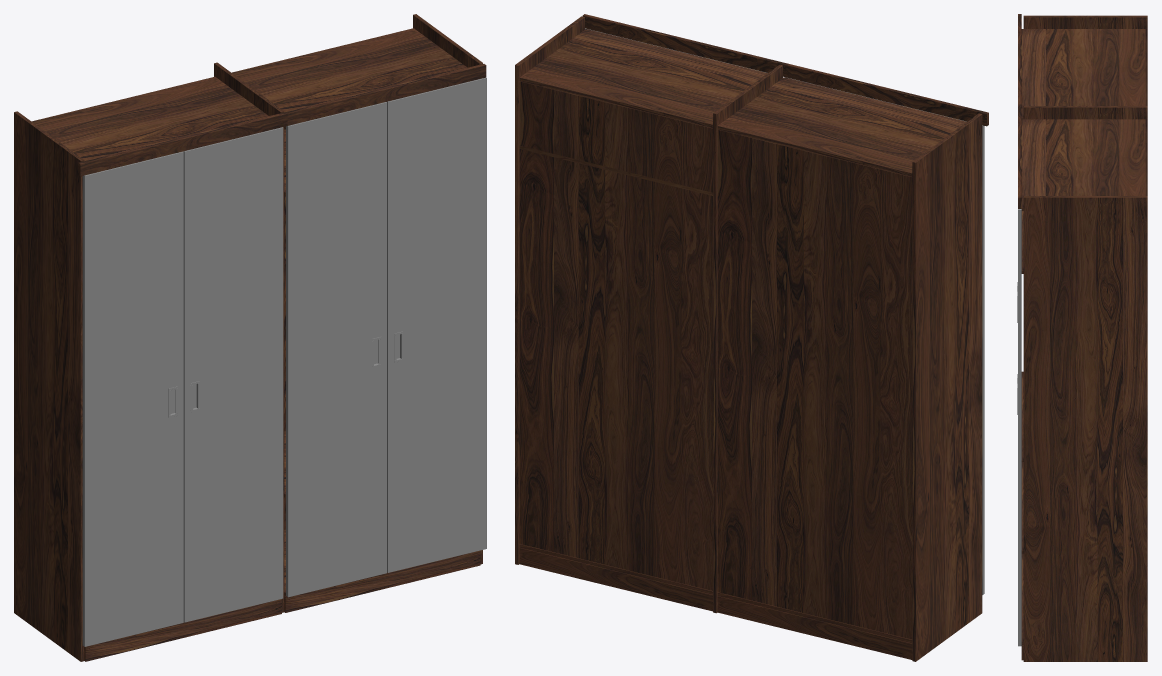
Rendered from Wardrobe 6.FBX.
The picture shows the model from 3 angles, left to right: view 1: azimuth 30°, elevation 25°; view 2: azimuth 150°, elevation 25°; view 3: azimuth 270°, elevation 25°; orthographic projection. The views are drawn at different scales.
Parts seen in each view (by area): view 1: wardrobe 6, door C, door D, door A, door B; view 2: wardrobe 6, door C; view 3: wardrobe 6, door B.
Part boxes in pixels (left/top/right/bottom): wardrobe 6: left=14, top=14, right=486, bottom=661; door C: left=82, top=151, right=183, bottom=646; door D: left=183, top=127, right=283, bottom=622; door A: left=286, top=102, right=386, bottom=597; door B: left=387, top=77, right=486, bottom=572; wardrobe 6: left=515, top=14, right=988, bottom=661; door C: left=885, top=101, right=984, bottom=594; wardrobe 6: left=1018, top=14, right=1147, bottom=661; door B: left=1017, top=209, right=1021, bottom=646.
Bounding box in the file's own units: 192 × 226 × 57.27.
Materials: 3 (1 with a texture image).
